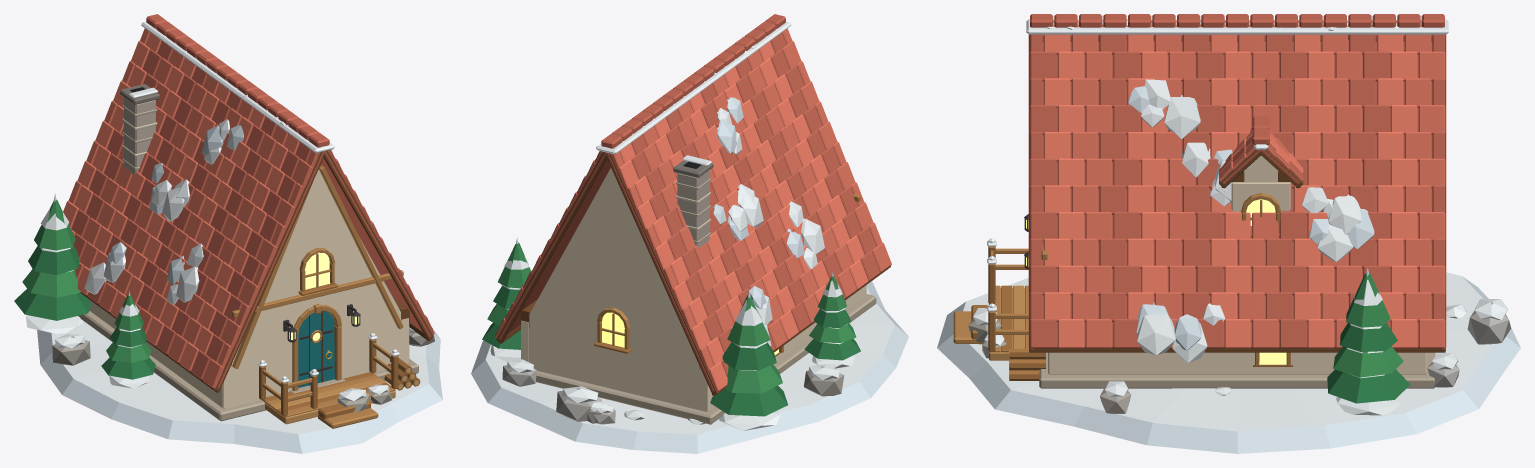
Rendered from aframe_cabin_t2_exterior.glb.
3 renders of one model, left to right at view 1: azimuth 30°, elevation 25°; view 2: azimuth 150°, elevation 25°; view 3: azimuth 270°, elevation 25°, orthographic. The views are drawn at different scales.
Visible parts, largest first — view 1: aframe_cabin_t2_exterior_roof, aframe_cabin_t2_exterior, part_crown__park.001, part_crown, part_door_leaf; view 2: aframe_cabin_t2_exterior_roof, aframe_cabin_t2_exterior, part_crown__park.001, part_crown, part_crown__park.002; view 3: aframe_cabin_t2_exterior_roof, aframe_cabin_t2_exterior, part_crown__park.002.
Part boxes in pixels (bbox=[...]): aframe_cabin_t2_exterior_roof: bbox=[63, 14, 434, 392]; aframe_cabin_t2_exterior: bbox=[25, 165, 442, 453]; part_crown__park.001: bbox=[14, 194, 91, 320]; part_crown: bbox=[101, 291, 155, 379]; part_door_leaf: bbox=[298, 311, 334, 387]; aframe_cabin_t2_exterior_roof: bbox=[495, 14, 891, 395]; aframe_cabin_t2_exterior: bbox=[471, 168, 908, 453]; part_crown__park.001: bbox=[710, 289, 787, 416]; part_crown: bbox=[804, 272, 860, 360]; part_crown__park.002: bbox=[482, 238, 530, 349]; aframe_cabin_t2_exterior_roof: bbox=[1026, 14, 1448, 362]; aframe_cabin_t2_exterior: bbox=[937, 214, 1520, 453]; part_crown__park.002: bbox=[1327, 267, 1410, 403].
Size of the model in its own units: 8.38 by 6.18 by 9.87.
